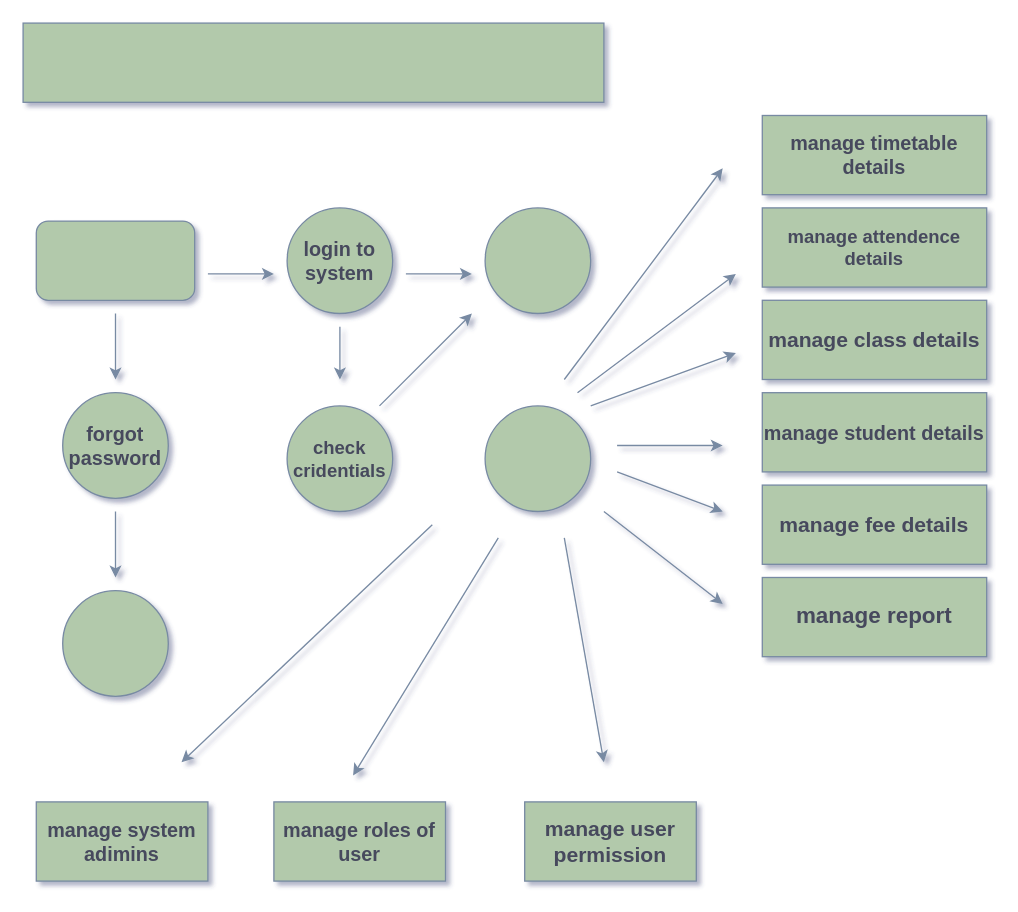
Some shapes in this 1018 by 912 pixel diagram are drawn without their labels. Here are the shapes that lost their labels. From the top down, the box of each, then its label:
(22, 22, 604, 102): student information system
(35, 220, 195, 300): adime
(484, 207, 591, 314): check roles of access
(484, 405, 591, 512): manage modules
(61, 589, 168, 696): send email to user
